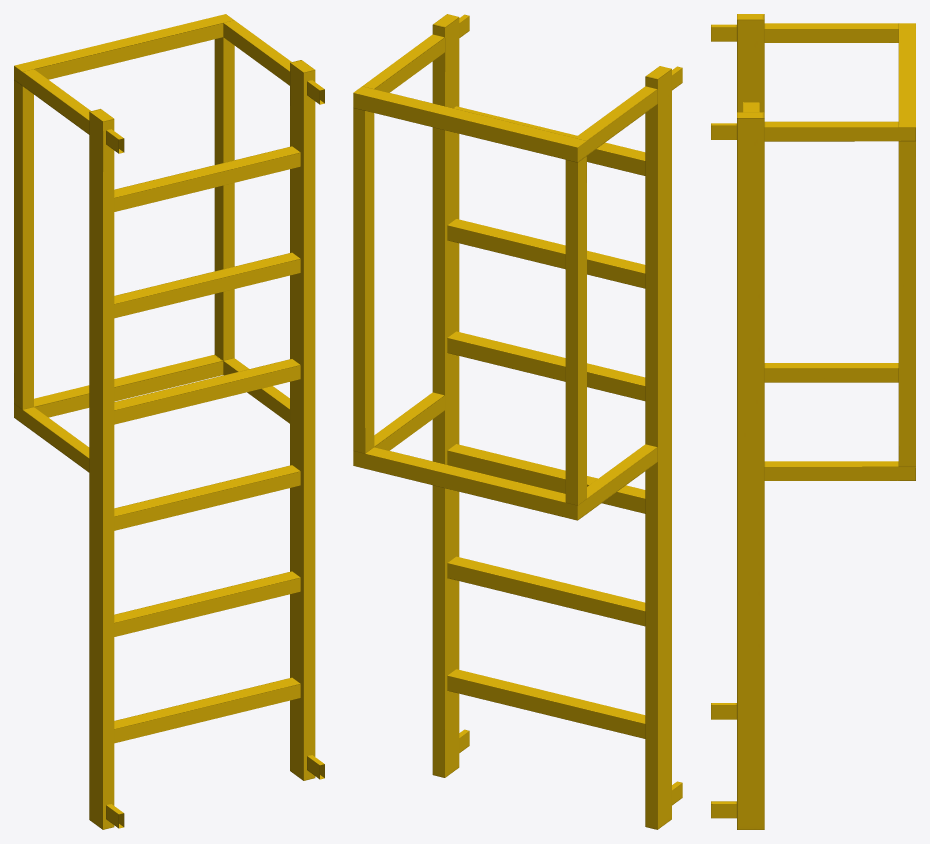
The model's file is Platerform_Metal_Stair_01.FBX.
3 renders of one model, left to right at view 1: azimuth 30°, elevation 25°; view 2: azimuth 150°, elevation 25°; view 3: azimuth 270°, elevation 25°, orthographic. The views are drawn at different scales.
Parts seen in each view (by area): view 1: Platerform_Metal_Stair_01; view 2: Platerform_Metal_Stair_01; view 3: Platerform_Metal_Stair_01.
Part boxes in pixels (<box>): Platerform_Metal_Stair_01: <box>14,14,324,829</box>; Platerform_Metal_Stair_01: <box>353,14,682,829</box>; Platerform_Metal_Stair_01: <box>711,14,915,829</box>.
Bounding box in the file's own units: 1.57 × 5 × 1.3.
